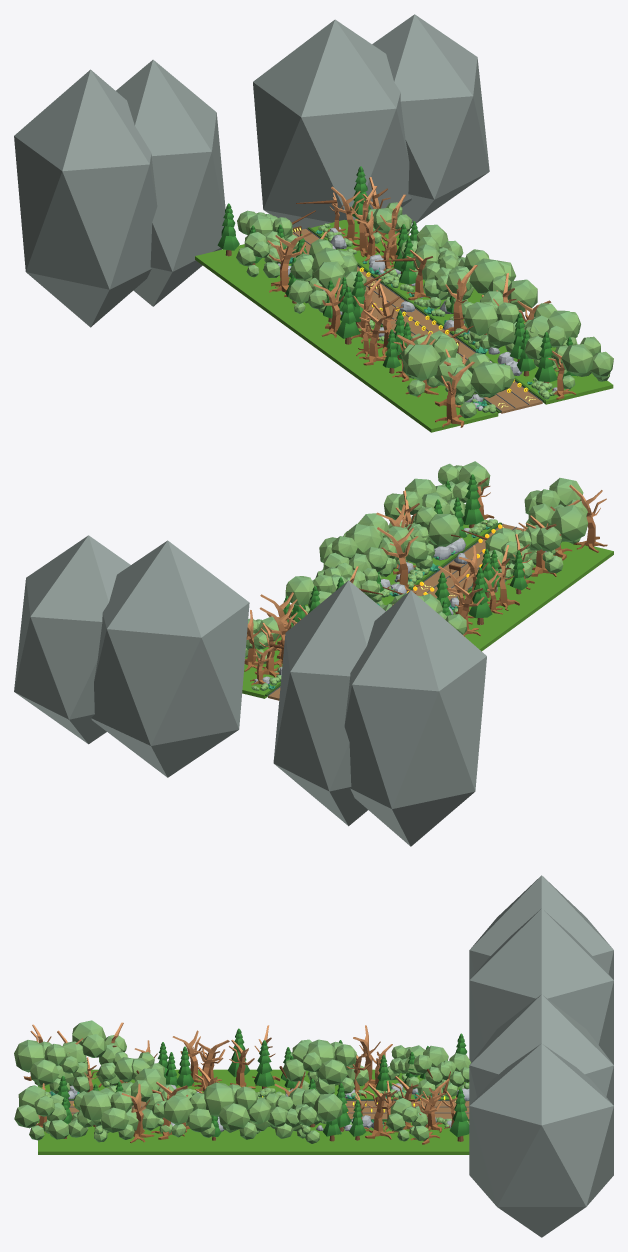
The model's file is forest_72m.glb.
3 renders of one model, top to bottom at view 1: azimuth 30°, elevation 25°; view 2: azimuth 150°, elevation 25°; view 3: azimuth 270°, elevation 25°, orthographic. The views are drawn at different scales.
Parts seen in each view (by area): view 1: Distant_mountain, Distant_mountain.002, Distant_mountain.001, Distant_mountain.003, Terrain_bank, Terrain_bank.002, Terrain_bank.004, Asset_Base Tree.007, Asset_Base Tree.003, Asset_Base Tree.011, Asset_Base Tree.013, Asset_Base Tree.030 (+25 smaller); view 2: Distant_mountain.002, Distant_mountain, Distant_mountain.001, Distant_mountain.003, Terrain_bank, Asset_Base Tree.007, Asset_Base Tree.030, Terrain_bank.002, Asset_Base Tree.011, Asset_Base Tree.003, Asset_Base Tree.015, Asset_Base Tree.013 (+15 smaller); view 3: Distant_mountain.003, Distant_mountain.001, Distant_mountain.002, Distant_mountain, Terrain_bank.003, Terrain_bank.005, Terrain_bank.001, Asset_Base Tree.030, Asset_Base Tree.013, Asset_Base Tree.015, Asset_Base Tree.003, Asset_Base Tree.034 (+22 smaller).
Boxes of the visible parts, <box> form: Distant_mountain: <box>14,69,157,327</box>; Distant_mountain.002: <box>253,19,411,229</box>; Distant_mountain.001: <box>116,59,225,306</box>; Distant_mountain.003: <box>372,14,489,223</box>; Terrain_bank: <box>352,360,498,432</box>; Terrain_bank.002: <box>273,305,397,374</box>; Terrain_bank.004: <box>195,244,336,316</box>; Asset_Base Tree.007: <box>400,338,464,396</box>; Asset_Base Tree.003: <box>450,353,515,418</box>; Asset_Base Tree.011: <box>464,302,518,352</box>; Asset_Base Tree.013: <box>552,336,613,388</box>; Asset_Base Tree.030: <box>446,249,515,317</box>; Distant_mountain.002: <box>91,540,249,777</box>; Distant_mountain: <box>344,590,486,846</box>; Distant_mountain.001: <box>273,580,385,826</box>; Distant_mountain.003: <box>14,535,130,744</box>; Terrain_bank: <box>469,541,613,611</box>; Asset_Base Tree.007: <box>526,503,587,573</box>; Asset_Base Tree.030: <box>319,524,387,579</box>; Terrain_bank.002: <box>452,592,535,651</box>; Asset_Base Tree.011: <box>406,507,459,569</box>; Asset_Base Tree.003: <box>524,478,587,543</box>; Asset_Base Tree.015: <box>384,478,450,528</box>; Asset_Base Tree.013: <box>438,461,490,508</box>; Distant_mountain.003: <box>469,1043,613,1237</box>; Distant_mountain.001: <box>469,908,613,1064</box>; Distant_mountain.002: <box>469,994,613,1105</box>; Distant_mountain: <box>469,875,613,979</box>; Terrain_bank.003: <box>183,1122,329,1154</box>; Terrain_bank.005: <box>329,1121,469,1154</box>; Terrain_bank.001: <box>38,1121,183,1154</box>; Asset_Base Tree.030: <box>203,1082,270,1139</box>; Asset_Base Tree.013: <box>14,1085,68,1140</box>; Asset_Base Tree.015: <box>79,1090,138,1139</box>; Asset_Base Tree.003: <box>14,1040,74,1093</box>; Asset_Base Tree.034: <box>306,1039,368,1093</box>.
Size of the model in its own units: 79.47 by 43.4 by 98.89.
Materials: 12 (2 with a texture image).
